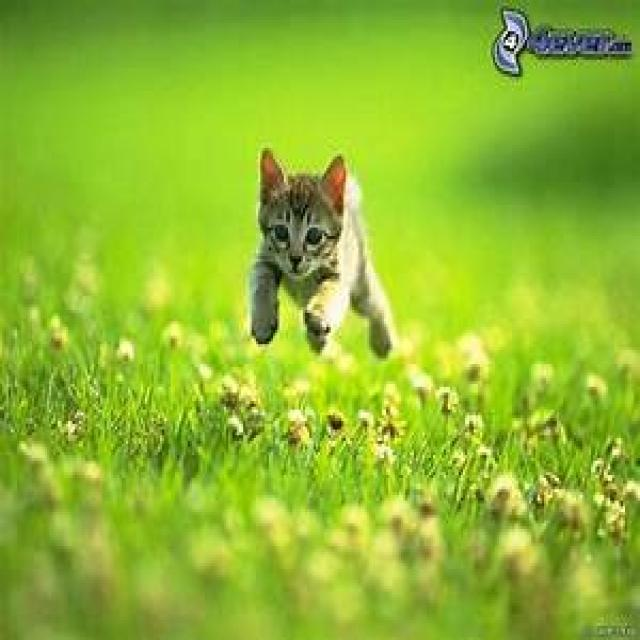animal: (245, 145, 397, 358)
